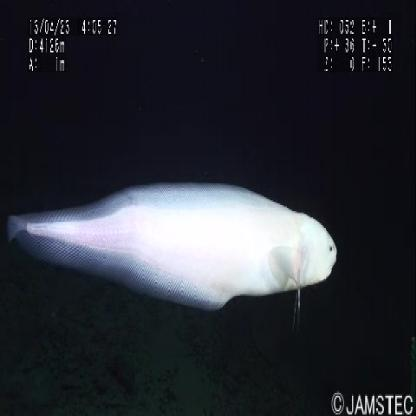Bio: (2, 169, 340, 319)
